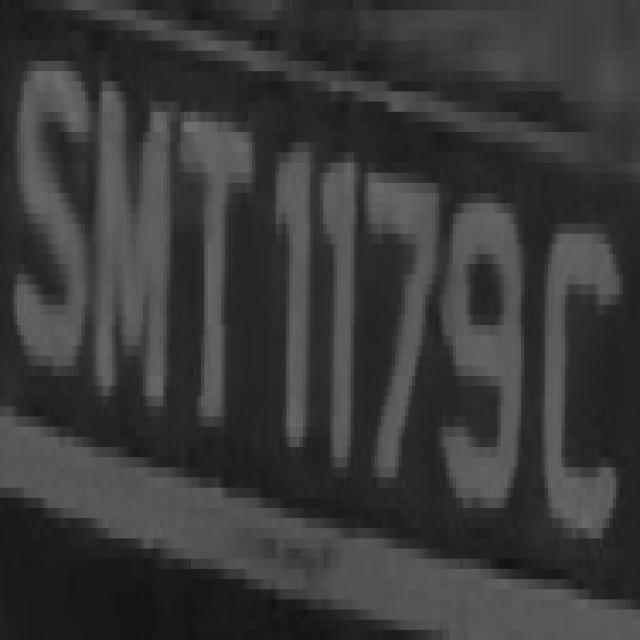1: (313, 102, 368, 508), (269, 101, 306, 498)
7: (361, 142, 436, 549)
9: (439, 101, 524, 548)
C: (541, 213, 630, 579)
M: (82, 41, 184, 447)
S: (10, 51, 82, 396)
T: (167, 51, 259, 467)
